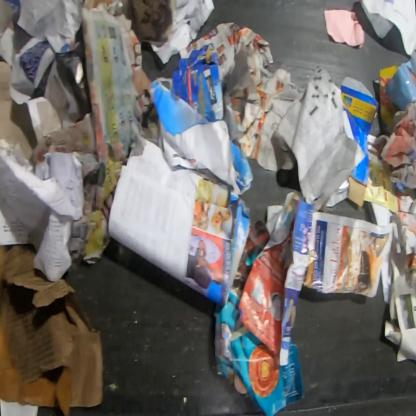cardboard: (0, 243, 105, 415), (340, 75, 380, 207), (170, 43, 224, 121)
soft_plastic: (55, 49, 91, 117)
